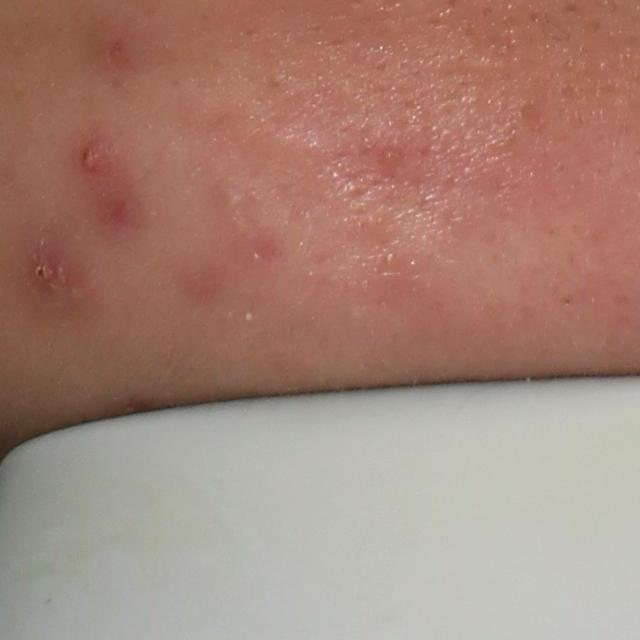papule: (68, 129, 129, 189), (25, 243, 72, 294)
